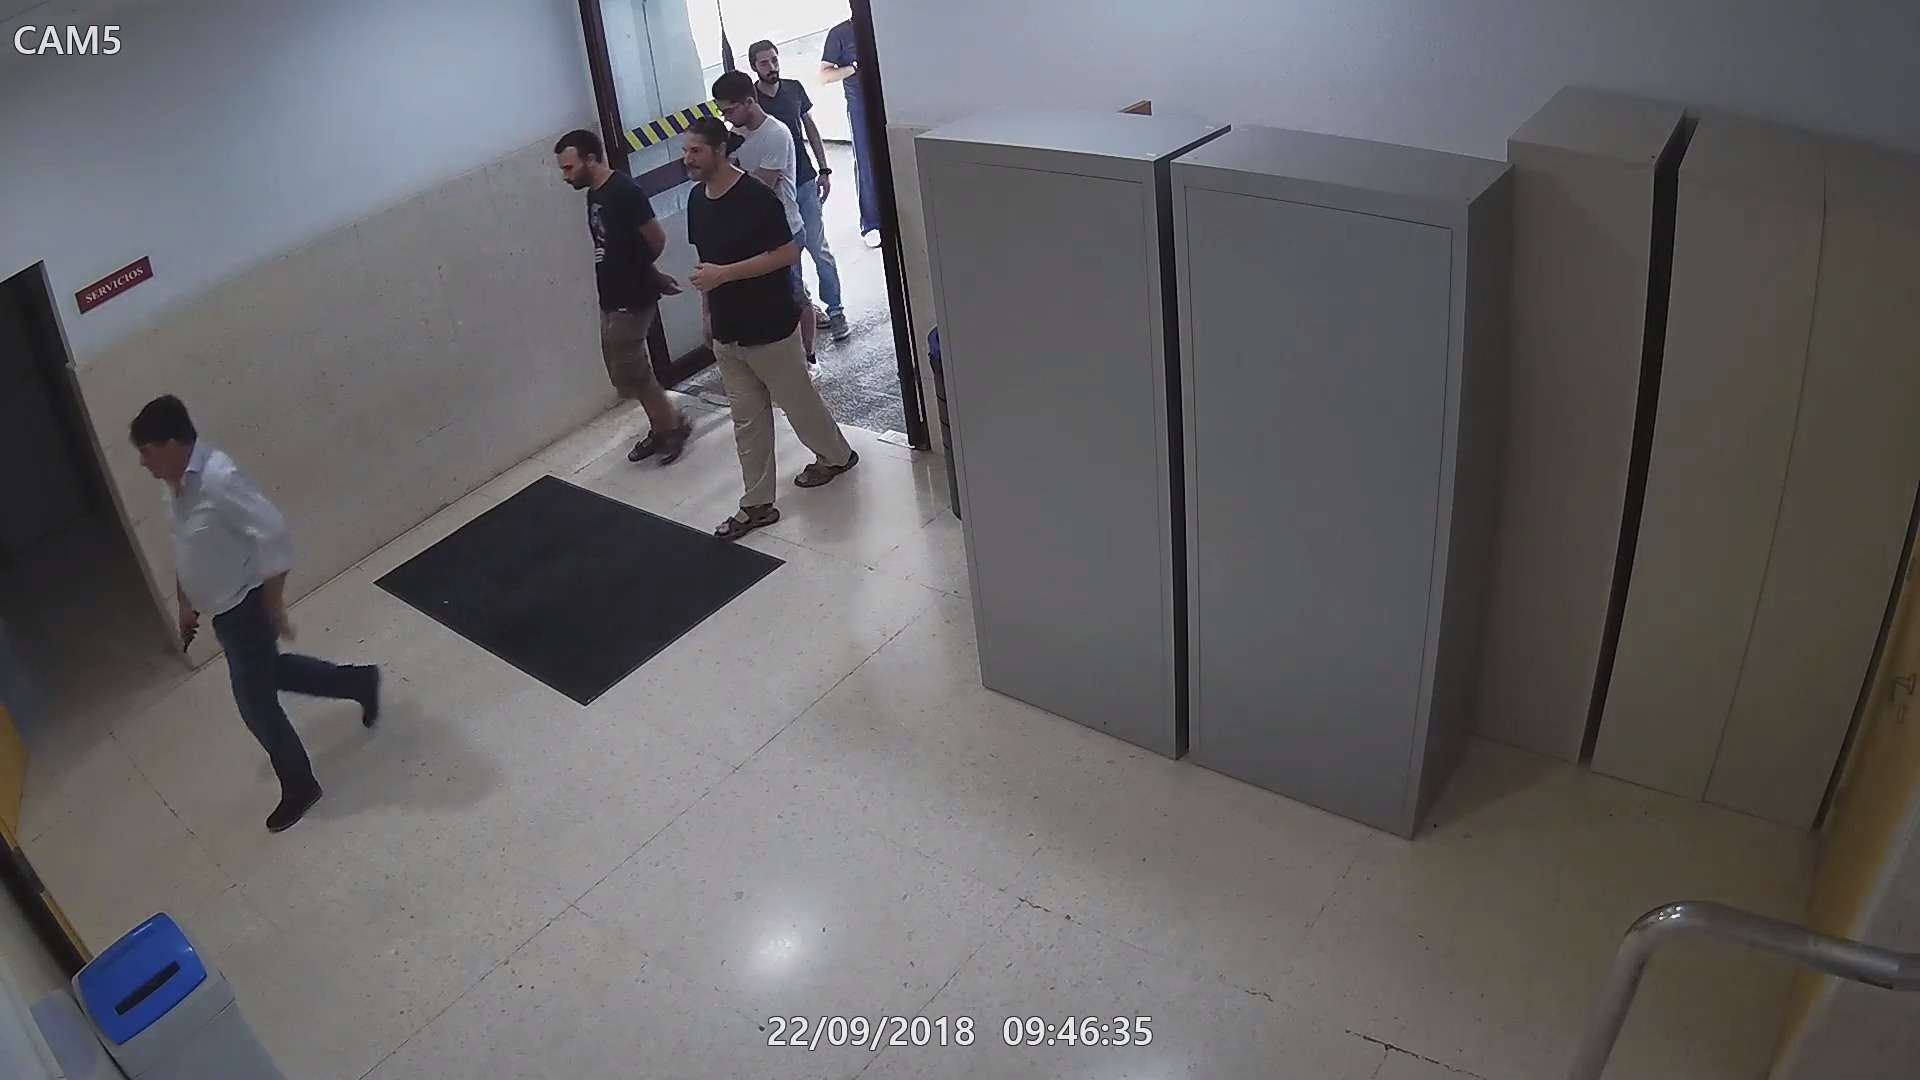pistol: (174, 605, 200, 655)
